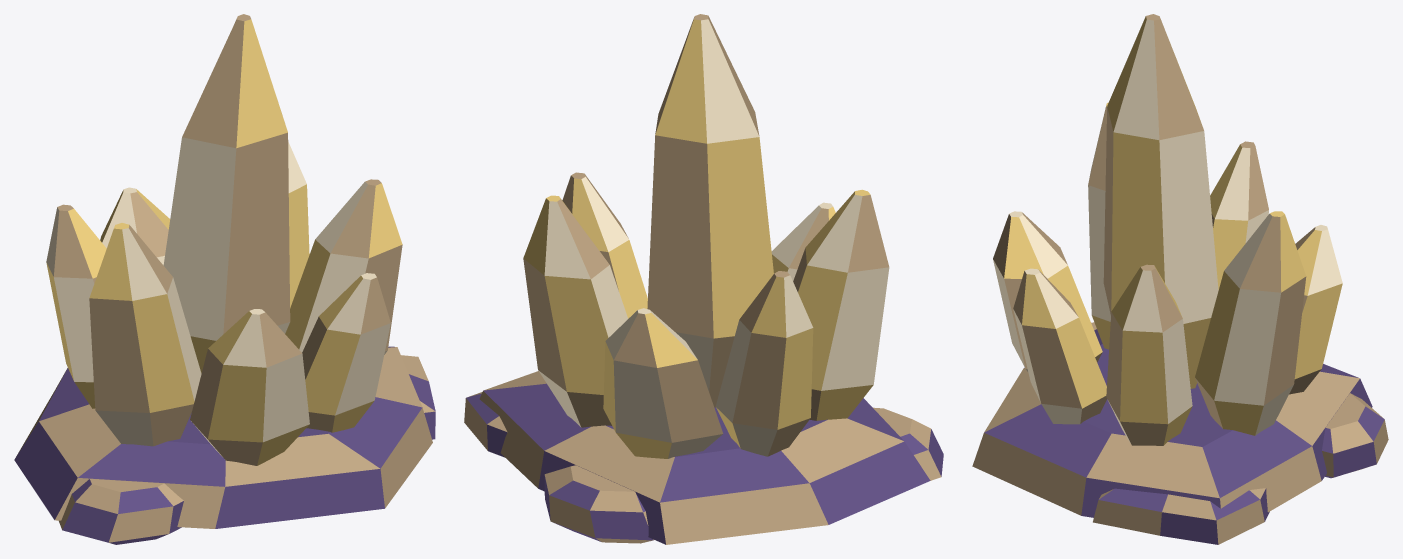
File: BH_ORE_O24_Coracao_do_Horizonte_V01.glb
3 renders of one model, left to right at view 1: azimuth 30°, elevation 25°; view 2: azimuth 150°, elevation 25°; view 3: azimuth 270°, elevation 25°, orthographic. The views are drawn at different scales.
Visible parts, largest first — view 1: Bedrock | primary.001, Hero prism.001, O24 | shard 6.001, O24 | shard 7.001, O24 | shard 1.001, O24 | shard 2.001, O24 | shard 5.001, Bedrock | shoulder 1.001, O24 | shard 4.001, O24 | shard 3.001, Bedrock | shoulder 2.001; view 2: Bedrock | primary.001, Hero prism.001, O24 | shard 3.001, O24 | shard 6.001, O24 | shard 5.001, O24 | shard 4.001, Bedrock | shoulder 3.001, O24 | shard 2.001, Bedrock | shoulder 1.001, O24 | shard 7.001, Bedrock | shoulder 2.001; view 3: Bedrock | primary.001, Hero prism.001, O24 | shard 3.001, O24 | shard 2.001, O24 | shard 1.001, Bedrock | shoulder 2.001, O24 | shard 7.001, O24 | shard 4.001, O24 | shard 5.001, Bedrock | shoulder 3.001, O24 | shard 6.001.
Boxes of the visible parts, x1,y1,x2,y2 form: Bedrock | primary.001: (14, 346, 432, 528); Hero prism.001: (163, 14, 290, 373); O24 | shard 6.001: (89, 223, 201, 446); O24 | shard 7.001: (190, 309, 309, 465); O24 | shard 1.001: (302, 273, 390, 432); O24 | shard 2.001: (285, 179, 402, 354); O24 | shard 5.001: (46, 204, 106, 408); Bedrock | shoulder 1.001: (59, 479, 183, 544); O24 | shard 4.001: (100, 187, 170, 265); O24 | shard 3.001: (288, 142, 309, 308); Bedrock | shoulder 2.001: (401, 355, 435, 439); Bedrock | primary.001: (479, 371, 930, 544); Hero prism.001: (647, 14, 773, 407); O24 | shard 3.001: (523, 195, 628, 427); O24 | shard 6.001: (793, 189, 889, 420); O24 | shard 5.001: (715, 271, 813, 456); O24 | shard 4.001: (603, 308, 723, 458); Bedrock | shoulder 3.001: (544, 465, 653, 543); O24 | shard 2.001: (562, 172, 647, 318); Bedrock | shoulder 1.001: (873, 407, 943, 480); O24 | shard 7.001: (771, 202, 835, 280); Bedrock | shoulder 2.001: (464, 392, 507, 457); Bedrock | primary.001: (972, 329, 1372, 517); Hero prism.001: (1103, 14, 1218, 388); O24 | shard 3.001: (1195, 211, 1306, 435); O24 | shard 2.001: (1106, 264, 1192, 445); O24 | shard 1.001: (1013, 268, 1106, 424); Bedrock | shoulder 2.001: (1093, 488, 1269, 544); O24 | shard 7.001: (993, 211, 1102, 371); O24 | shard 4.001: (1289, 225, 1342, 394); O24 | shard 5.001: (1210, 141, 1268, 289); Bedrock | shoulder 3.001: (1322, 393, 1388, 478); O24 | shard 6.001: (1088, 102, 1110, 349).
Size of the model in its own units: 2.45 by 2.52 by 2.14.
